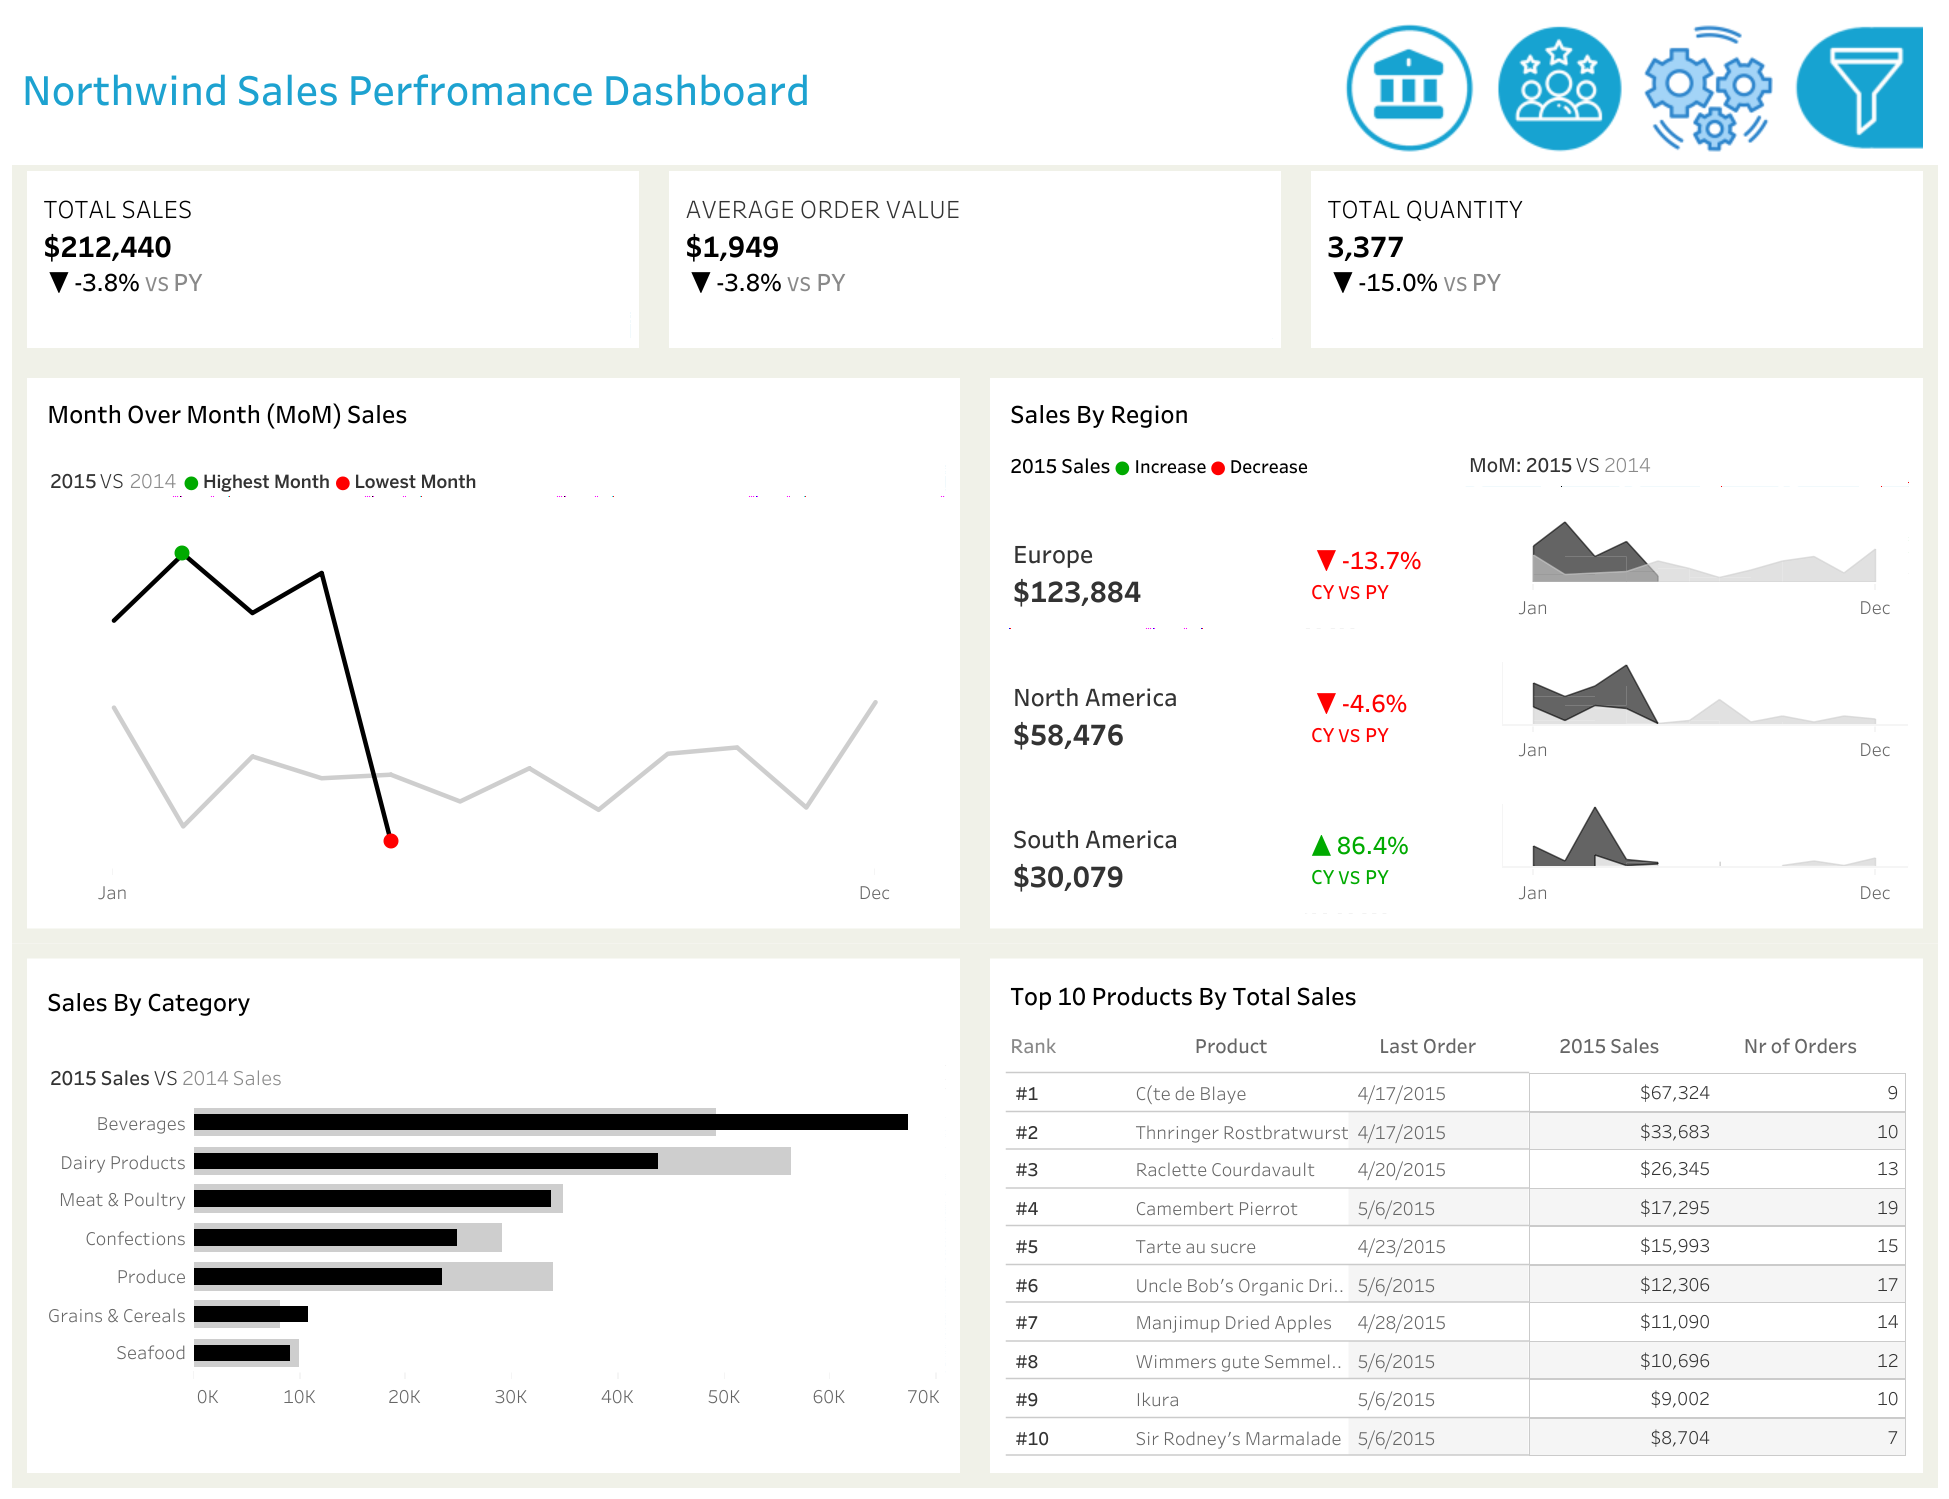

What the dashboard file says about the page in this screenshot:
{"tool":"tableau","page":{"name":"Sales Dashboard","canvas":[1300,1000],"ordinal":2},"visuals":[{"type":"text","box":[8,8,878,102]},{"type":"dashboard-object","box":[1050,8,82,102]},{"type":"blank","box":[1132,8,160,49]},{"type":"dashboard-object","box":[890,12,100,94]},{"type":"dashboard-object","box":[990,12,100,94]},{"type":"dashboard-object","box":[1090,12,99,94]},{"type":"dashboard-object","box":[1189,12,99,94]},{"type":"text","box":[1132,57,160,41]},{"type":"blank","box":[1132,98,160,37]},{"type":"worksheet","title":"Total Sales","mark":"Automatic","box":[8,110,428,132]},{"type":"worksheet","title":"AOV","mark":"Automatic","box":[436,110,428,132]},{"type":"worksheet","title":"Total Quantity","mark":"Automatic","box":[864,110,428,132]},{"type":"parameter","param":"[Parameters].[Parameter 1]","box":[1132,135,160,60]},{"type":"blank","box":[1132,195,160,40]},{"type":"text","box":[1132,235,160,70]},{"type":"text","box":[25,259,608,32]},{"type":"text","box":[667,259,608,32]},{"type":"worksheet","title":"Legend KPI","mark":"Text","box":[25,291,608,43]},{"type":"text","box":[667,291,304,36]},{"type":"worksheet","title":"Legend Region","mark":"Text","box":[971,291,304,36]},{"type":"filter","title":"% diff Europe sales","param":"[federated.0zaqgg01ssknam11a576s00i7wnt].[none:Calculation_465559629243305995:nk","box":[1132,305,160,70]},{"type":"worksheet","title":"Europe Sales","mark":"Automatic","box":[667,327,199,95]},{"type":"worksheet","title":"% diff Europe sales","mark":"Automatic","box":[866,327,131,95]},{"type":"worksheet","title":"Europe sales trend ","mark":"Area","rows":["Calculation_465559629251604492","CY Europe Sales (copy)_465559629253824526"],"cols":["OrderDate"],"box":[997,327,278,95]},{"type":"worksheet","title":"MOM Sales","mark":"Line","rows":["Calculation_673851113763155968"],"cols":["OrderDate"],"box":[25,334,608,278]},{"type":"filter","title":"% diff Europe sales","param":"[federated.0zaqgg01ssknam11a576s00i7wnt].[none:Country:nk]","box":[1132,375,160,70]},{"type":"worksheet","title":"North Amerca Sales","mark":"Automatic","box":[667,422,199,95]},{"type":"worksheet","title":"% diff North Sales","mark":"Automatic","box":[866,422,131,95]},{"type":"worksheet","title":"North America sales trend ","mark":"Area","cols":["OrderDate"],"box":[997,422,278,95]},{"type":"blank","box":[1132,445,160,49]},{"type":"text","box":[1132,494,160,41]},{"type":"worksheet","title":"South America Sales","mark":"Automatic","box":[667,517,199,95]},{"type":"worksheet","title":"% diff South Sales","mark":"Automatic","box":[866,517,131,95]},{"type":"worksheet","title":"South America sales trend ","mark":"Area","cols":["OrderDate"],"box":[997,517,278,95]},{"type":"blank","box":[1132,535,160,41]},{"type":"filter","title":"% diff Europe sales","param":"[federated.0zaqgg01ssknam11a576s00i7wnt].[none:CategoryName:nk]","box":[1132,576,160,70]},{"type":"text","box":[25,646,608,43]},{"type":"text","box":[667,646,608,35]},{"type":"text","box":[667,681,122.4,32]},{"type":"text","box":[789.4,681,126.4,32]},{"type":"text","box":[915.8,681,114.4,32]},{"type":"text","box":[1030.2,681,126.4,32]},{"type":"text","box":[1156.6,681,118.4,32]},{"type":"worksheet","title":"Legend Category","mark":"Text","box":[25,689,608,40]},{"type":"worksheet","title":"Top 10 products by total sales","mark":"Text","rows":["Calculation_1051872006618001415","ProductName","OrderDate"],"box":[667,713,608,262]},{"type":"worksheet","title":"sales by category","mark":"Bar","rows":["CategoryName"],"cols":["Calculation_465559629226958853","Calculation_465559629226438659"],"box":[25,729,608,246]}]}

Visuals, with their boxes in screenshot pixels (x1, y1, x2, y2), scaled from the page's 1300x1000 canvas onto the 1949x1499 screenshot:
text: <box>12,12,1328,165</box>
dashboard-object: <box>1574,12,1697,165</box>
blank: <box>1697,12,1937,85</box>
dashboard-object: <box>1334,18,1484,159</box>
dashboard-object: <box>1484,18,1634,159</box>
dashboard-object: <box>1634,18,1783,159</box>
dashboard-object: <box>1783,18,1931,159</box>
text: <box>1697,85,1937,147</box>
blank: <box>1697,147,1937,202</box>
"Total Sales" worksheet: <box>12,165,654,363</box>
"AOV" worksheet: <box>654,165,1295,363</box>
"Total Quantity" worksheet: <box>1295,165,1937,363</box>
parameter: <box>1697,202,1937,292</box>
blank: <box>1697,292,1937,352</box>
text: <box>1697,352,1937,457</box>
text: <box>37,388,949,436</box>
text: <box>1000,388,1912,436</box>
"Legend KPI" worksheet (Text marks): <box>37,436,949,501</box>
text: <box>1000,436,1456,490</box>
"Legend Region" worksheet (Text marks): <box>1456,436,1912,490</box>
"% diff Europe sales" filter: <box>1697,457,1937,562</box>
"Europe Sales" worksheet: <box>1000,490,1298,633</box>
"% diff Europe sales" worksheet: <box>1298,490,1495,633</box>
"Europe sales trend " worksheet (Area marks): <box>1495,490,1912,633</box>
"MOM Sales" worksheet (Line marks): <box>37,501,949,917</box>
"% diff Europe sales" filter: <box>1697,562,1937,667</box>
"North Amerca Sales" worksheet: <box>1000,633,1298,775</box>
"% diff North Sales" worksheet: <box>1298,633,1495,775</box>
"North America sales trend " worksheet (Area marks): <box>1495,633,1912,775</box>
blank: <box>1697,667,1937,741</box>
text: <box>1697,741,1937,802</box>
"South America Sales" worksheet: <box>1000,775,1298,917</box>
"% diff South Sales" worksheet: <box>1298,775,1495,917</box>
"South America sales trend " worksheet (Area marks): <box>1495,775,1912,917</box>
blank: <box>1697,802,1937,863</box>
"% diff Europe sales" filter: <box>1697,863,1937,968</box>
text: <box>37,968,949,1033</box>
text: <box>1000,968,1912,1021</box>
text: <box>1000,1021,1183,1069</box>
text: <box>1183,1021,1373,1069</box>
text: <box>1373,1021,1545,1069</box>
text: <box>1545,1021,1734,1069</box>
text: <box>1734,1021,1912,1069</box>
"Legend Category" worksheet (Text marks): <box>37,1033,949,1093</box>
"Top 10 products by total sales" worksheet (Text marks): <box>1000,1069,1912,1462</box>
"sales by category" worksheet (Bar marks): <box>37,1093,949,1462</box>
